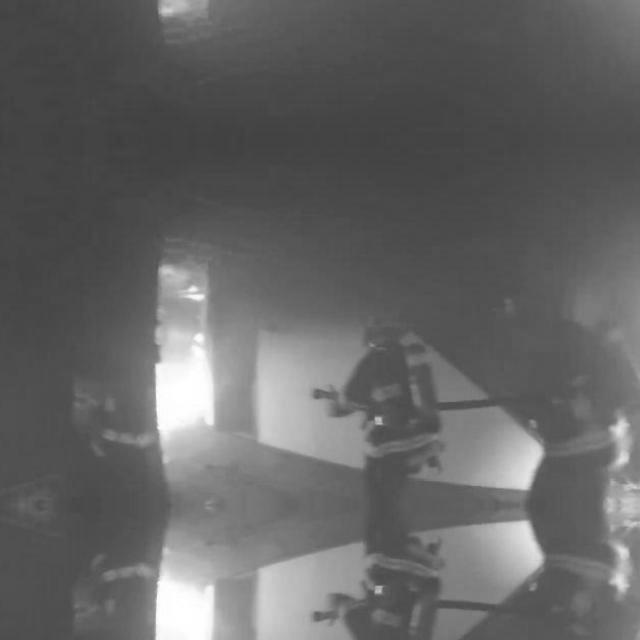smoke: (153, 332, 212, 432), (153, 578, 212, 640)
